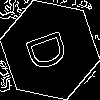D: (25, 25, 77, 74)
